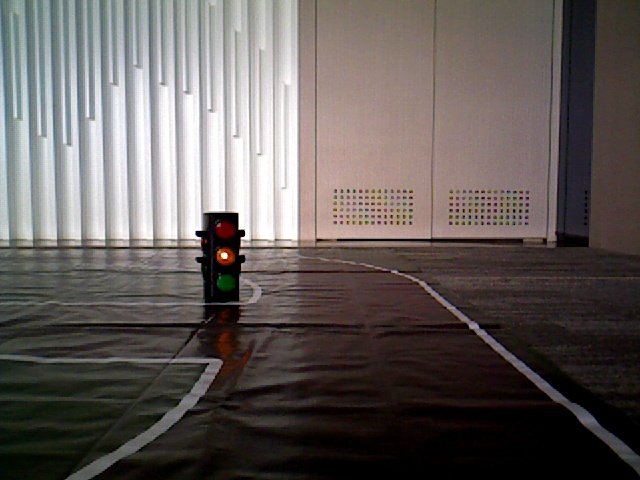yellow: (208, 214, 234, 290)
